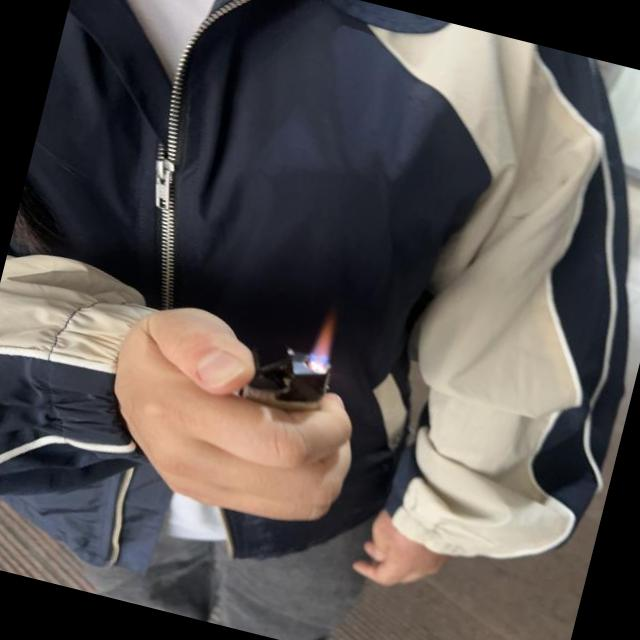Fire: (303, 312, 345, 378)
